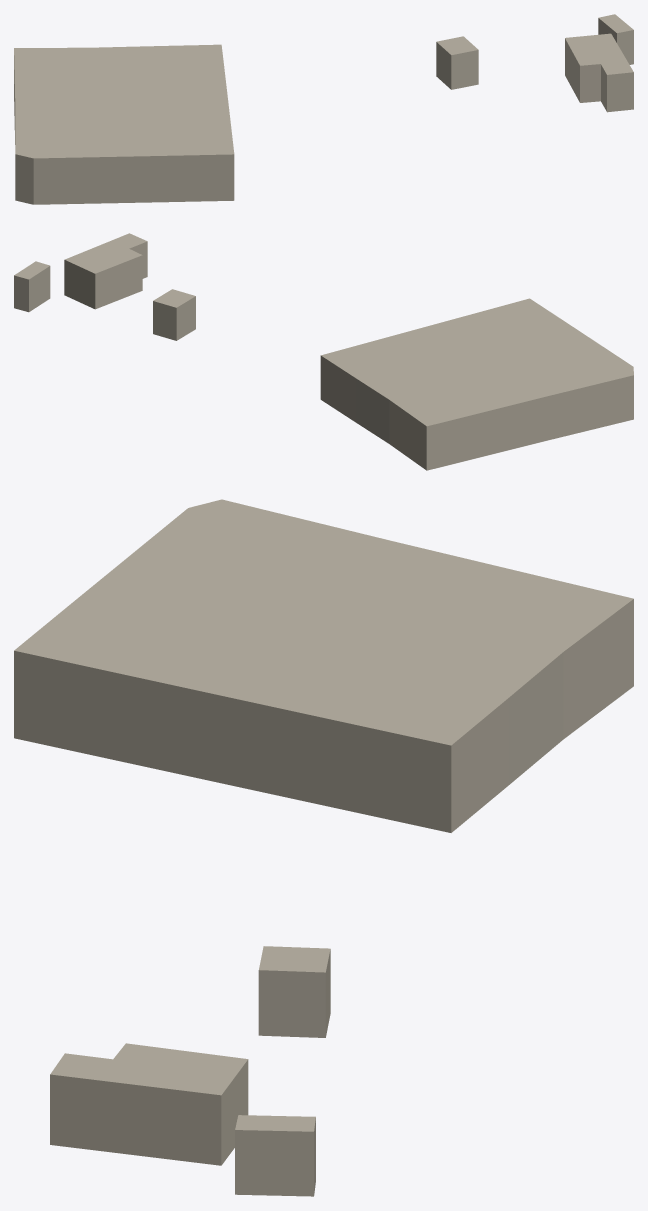
File: senglea_55_31_mid.glb
The picture shows the model from 3 angles, top to bottom: view 1: azimuth 30°, elevation 25°; view 2: azimuth 150°, elevation 25°; view 3: azimuth 270°, elevation 25°; orthographic projection. The views are drawn at different scales.
Parts seen in each view (by area): view 1: geometry_0; view 2: geometry_0; view 3: geometry_0.
Part boxes in pixels (x1,y1,x2,y2): geometry_0: [14, 14, 633, 204]; geometry_0: [14, 233, 633, 470]; geometry_0: [14, 499, 633, 1196].
Bounding box in the file's own units: 202 × 19.9 × 91.92.
